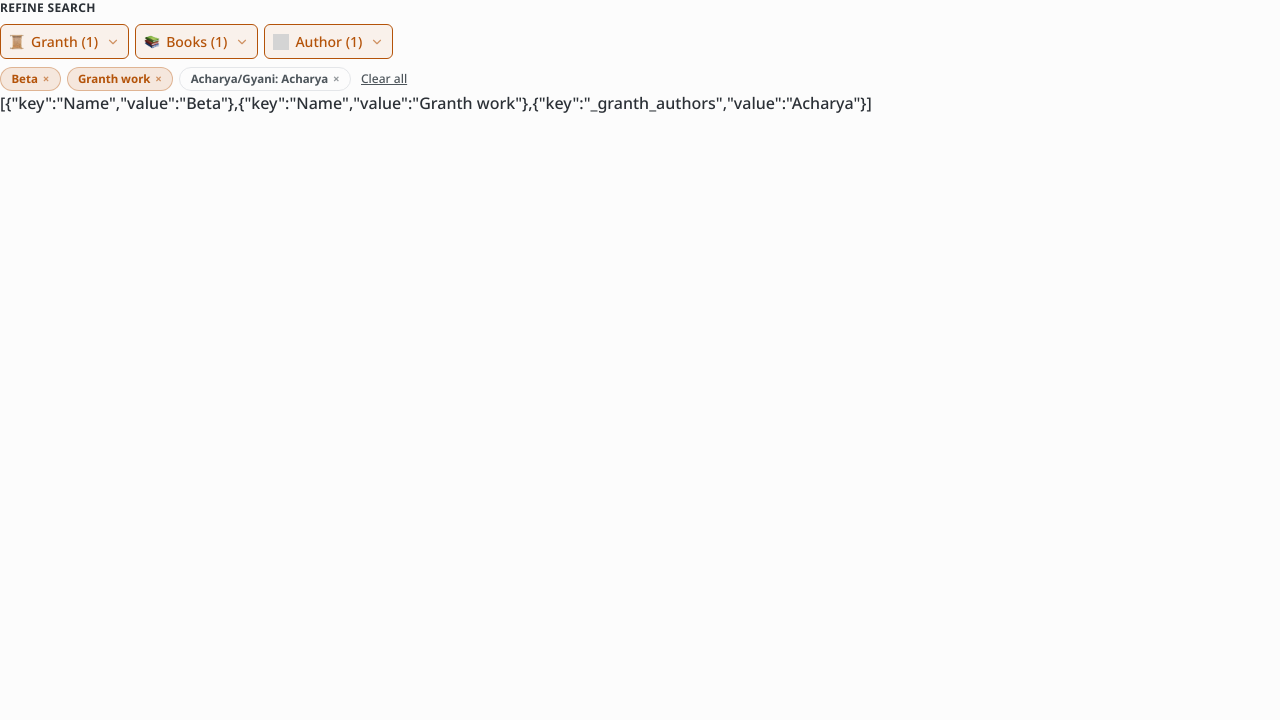
prunes incompatible titles on author chip removal and preserves Granth filters
The image size is (1280, 720).
Step 1. Click the button "Author (1)" → (329, 42), box left=264, top=24, right=393, bottom=59
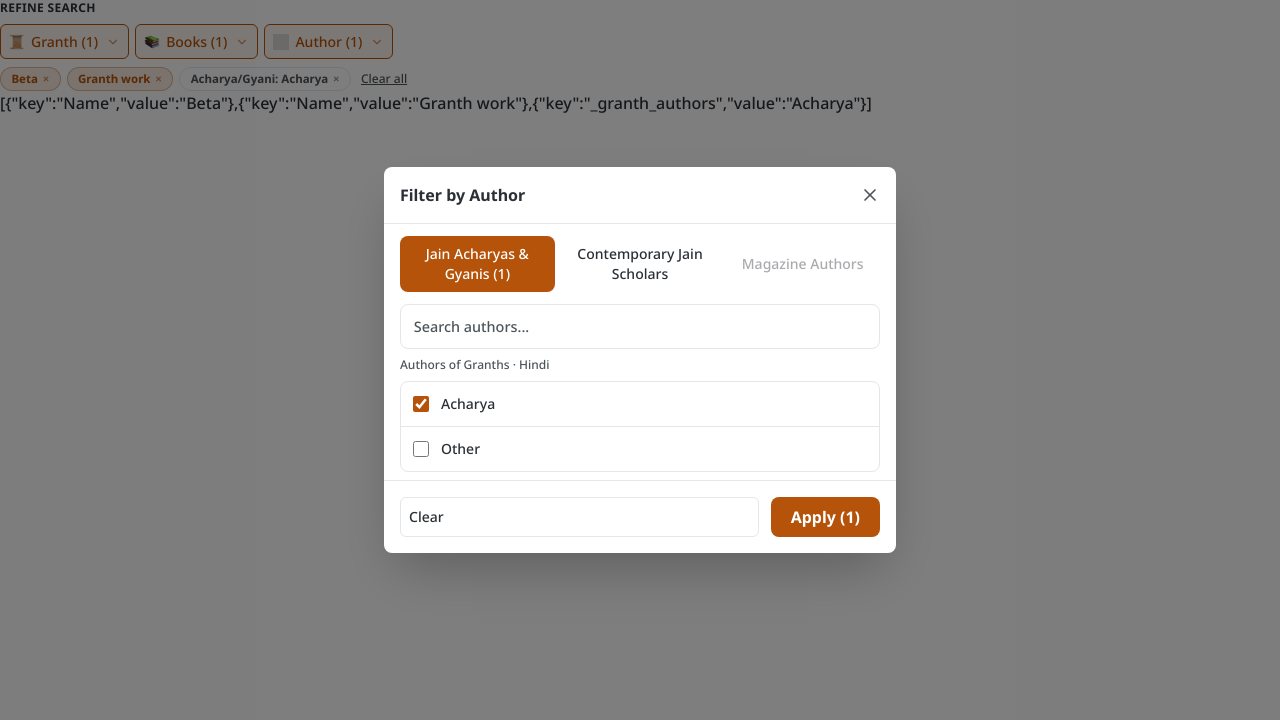
Step 2. Click the tab "Contemporary Jain Scholars" → (640, 264), box left=563, top=236, right=717, bottom=292
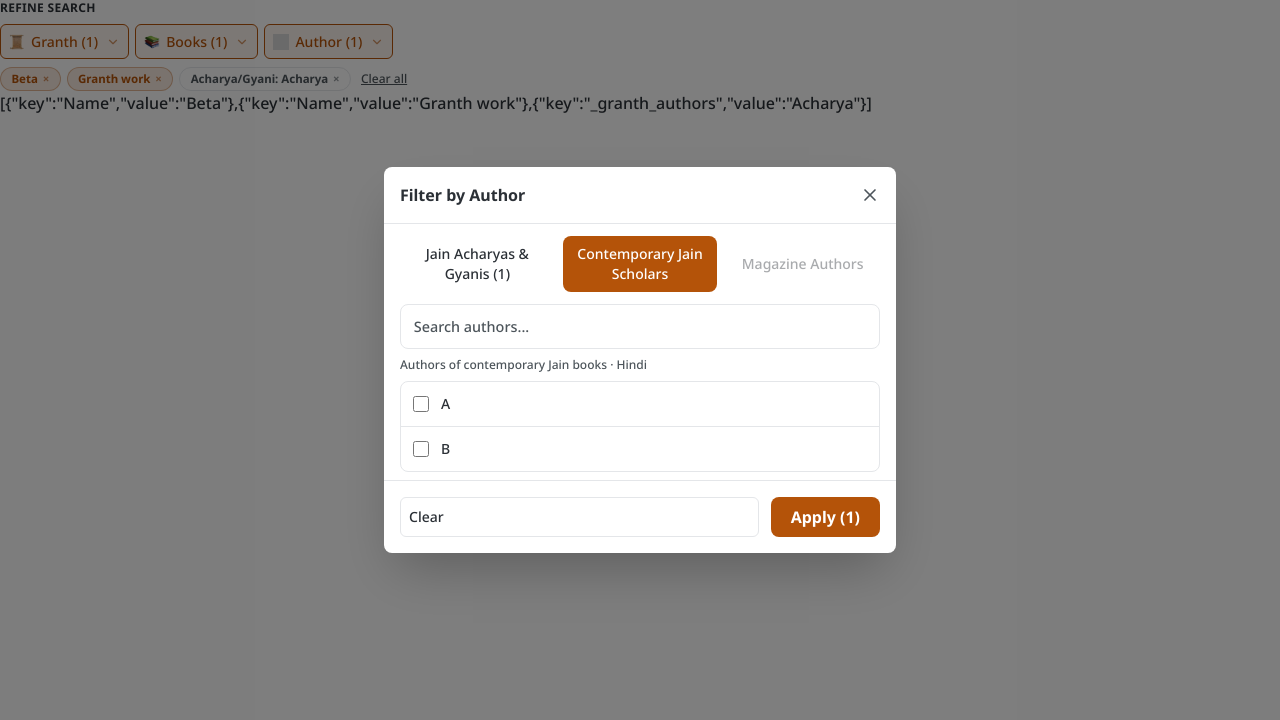
Step 3. Click the checkbox labelled "A" → (421, 404), box left=413, top=396, right=429, bottom=412
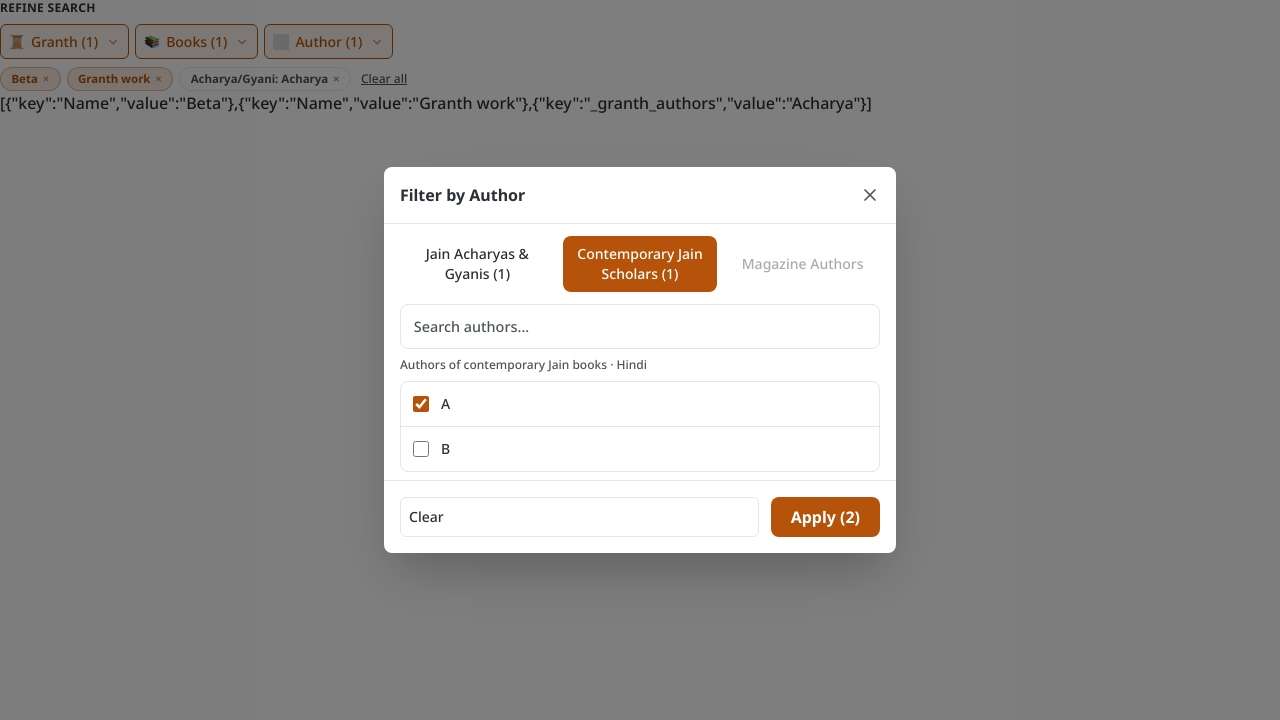
Step 4. Click the checkbox labelled "B" → (421, 449), box left=413, top=441, right=429, bottom=457
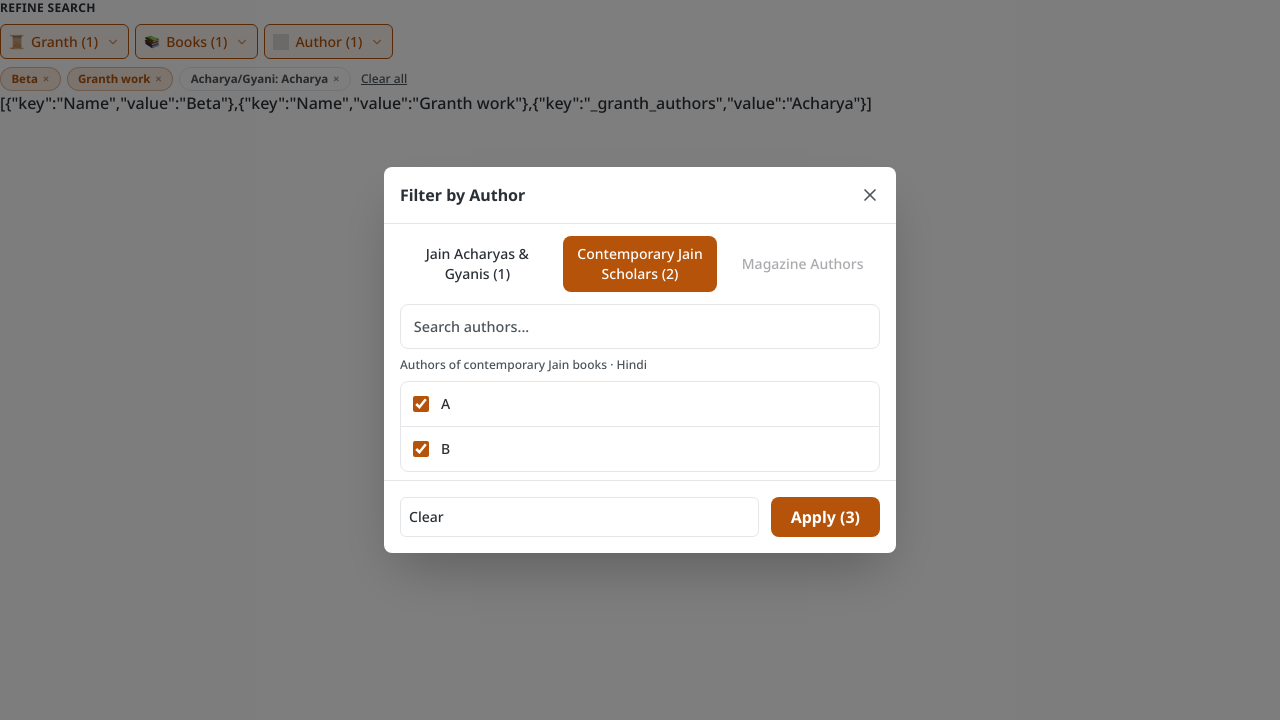
Step 5. Click the button "Apply (3)" → (825, 517), box left=771, top=497, right=880, bottom=537
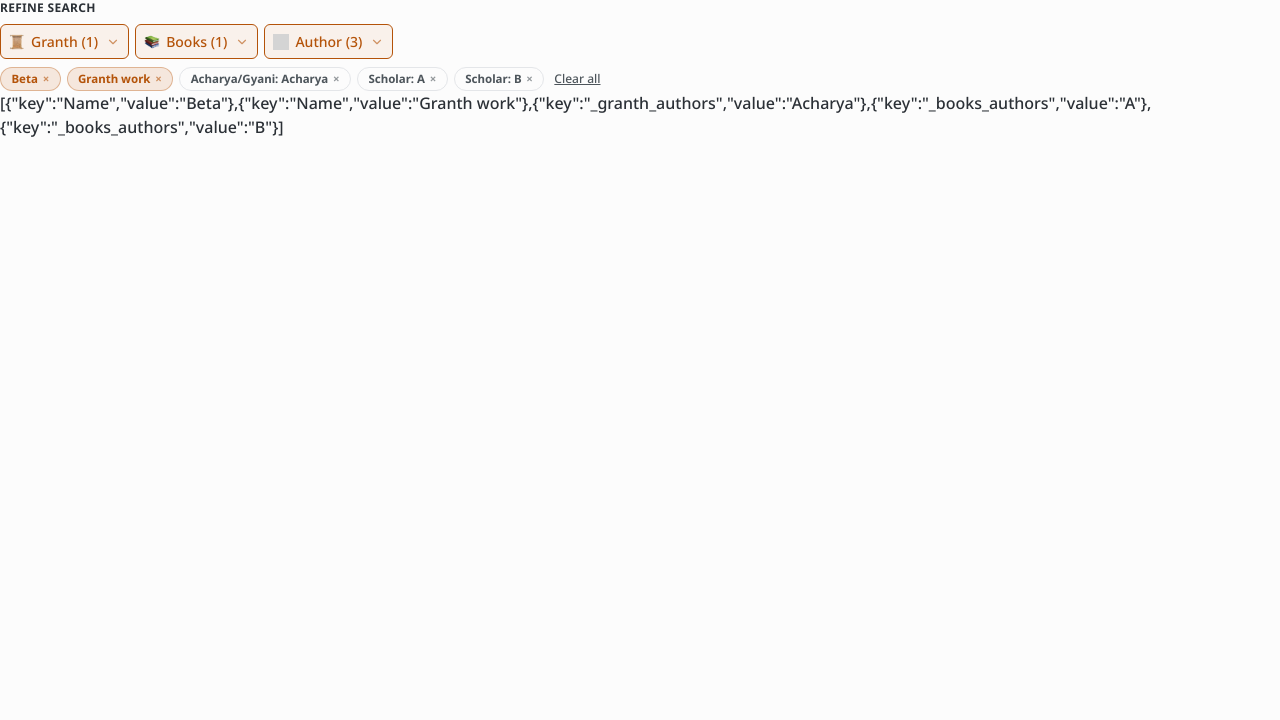
Step 6. Click the button "×" next to "Scholar: B" → (530, 79), box left=526, top=73, right=533, bottom=85
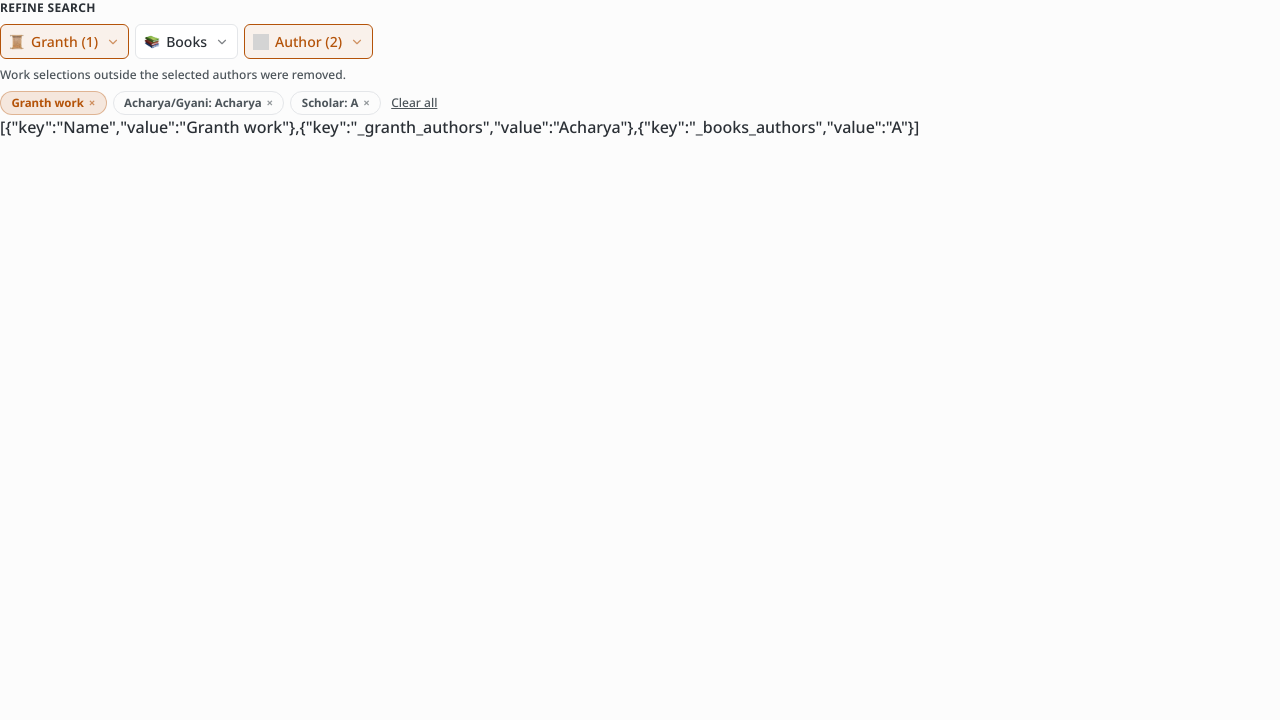
Result: the text "Work selections outside the selected authors were removed." is shown at left=0, top=66, right=346, bottom=83
